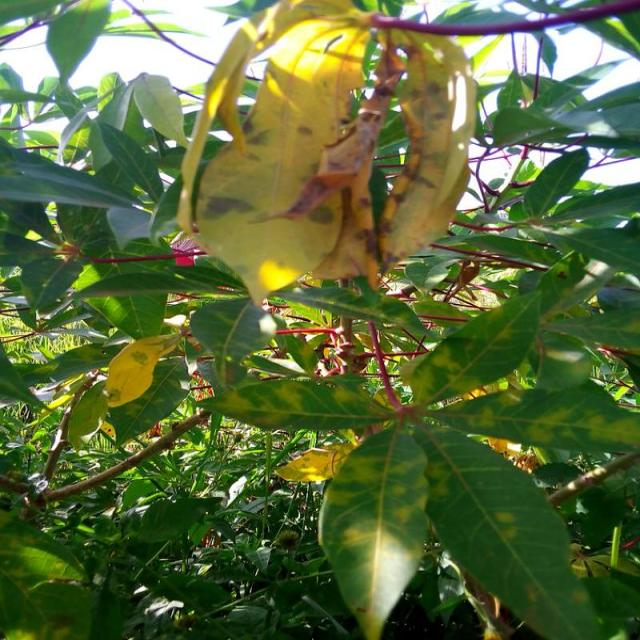cassava leaf: (187, 1, 478, 309), (412, 419, 610, 638), (318, 423, 431, 638)
